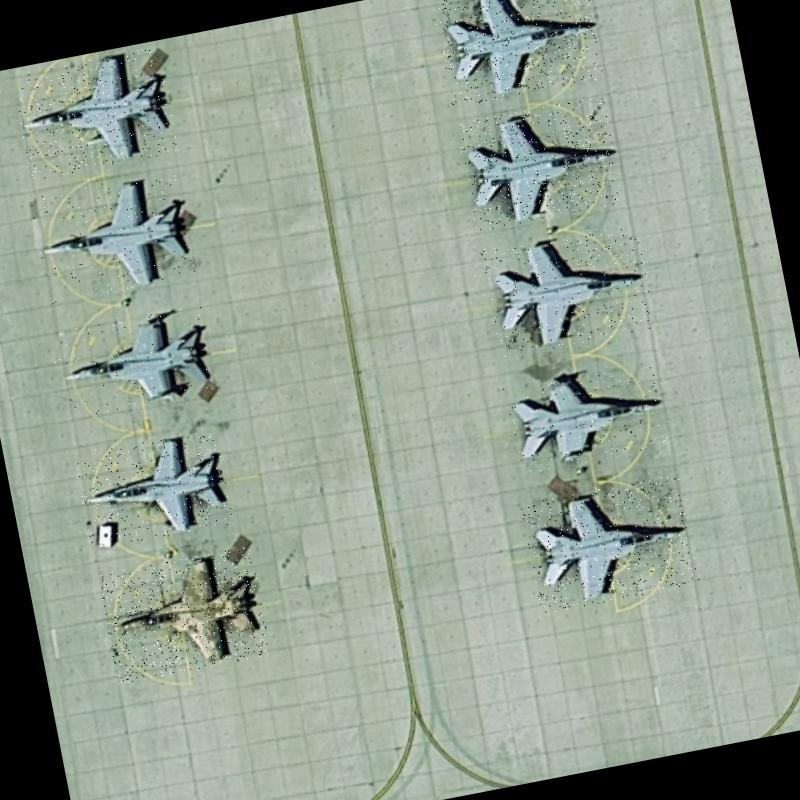A16: (520, 473, 699, 614), (480, 218, 658, 358), (97, 545, 271, 684), (454, 94, 624, 232), (29, 169, 196, 305), (10, 45, 178, 180), (72, 426, 234, 551), (503, 358, 674, 474), (48, 303, 216, 420), (431, 0, 604, 108)
